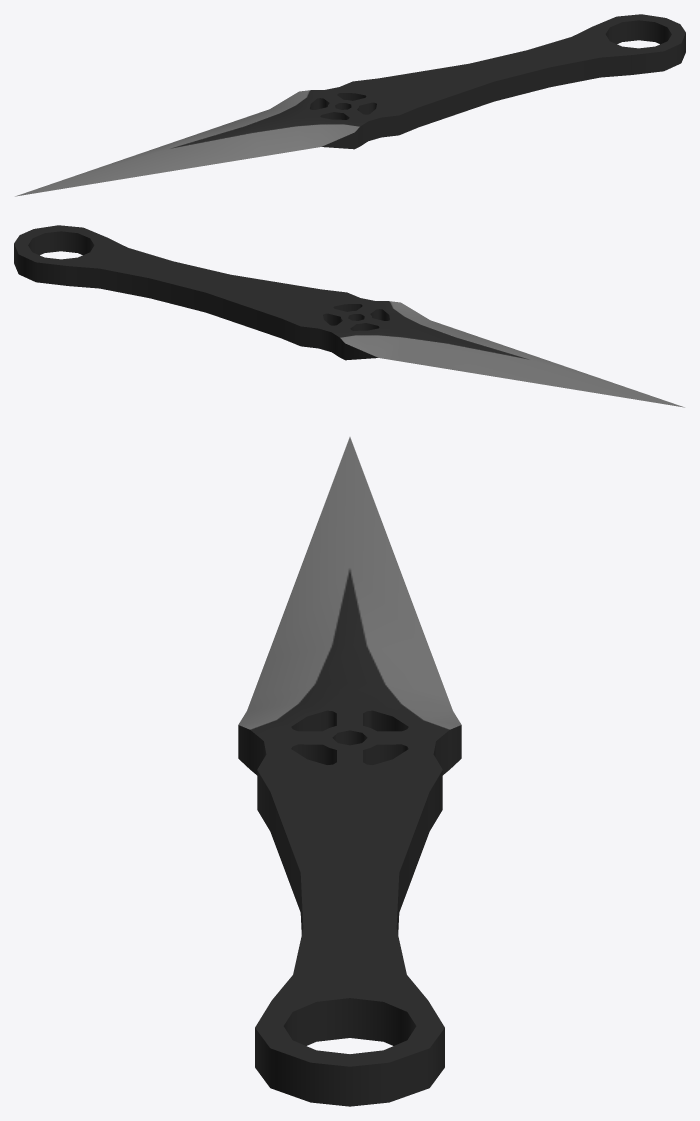
The model's file is kunai.fbx.
3 views of the same model, one above another, from view 1: azimuth 30°, elevation 25°; view 2: azimuth 150°, elevation 25°; view 3: azimuth 270°, elevation 25° (orthographic). The views are drawn at different scales.
Parts seen in each view (by area): view 1: Shuriken7; view 2: Shuriken7; view 3: Shuriken7.
Part boxes in pixels (box(x1,y1,x2,y2)): Shuriken7: box(15, 14, 685, 196); Shuriken7: box(14, 225, 684, 407); Shuriken7: box(238, 437, 461, 1106).
Bounding box in the file's own units: 17.92 × 0.5127 × 2.6.
1 material, 1 textured.
